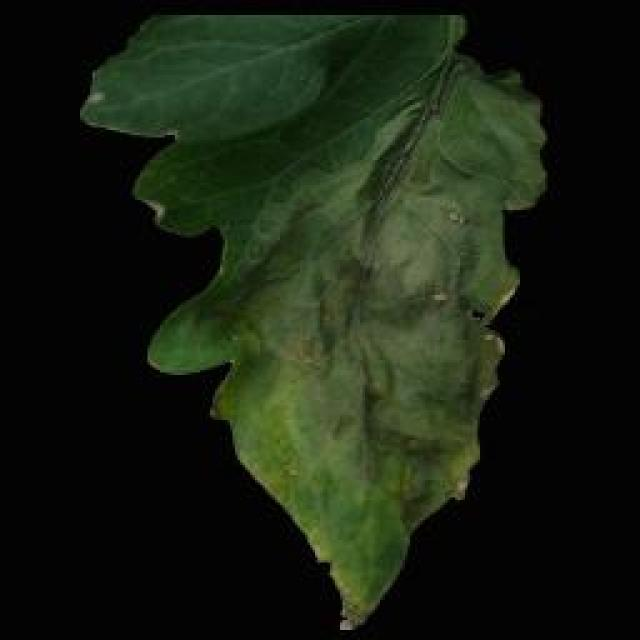Tomato Late Blight: (253, 123, 515, 575)
